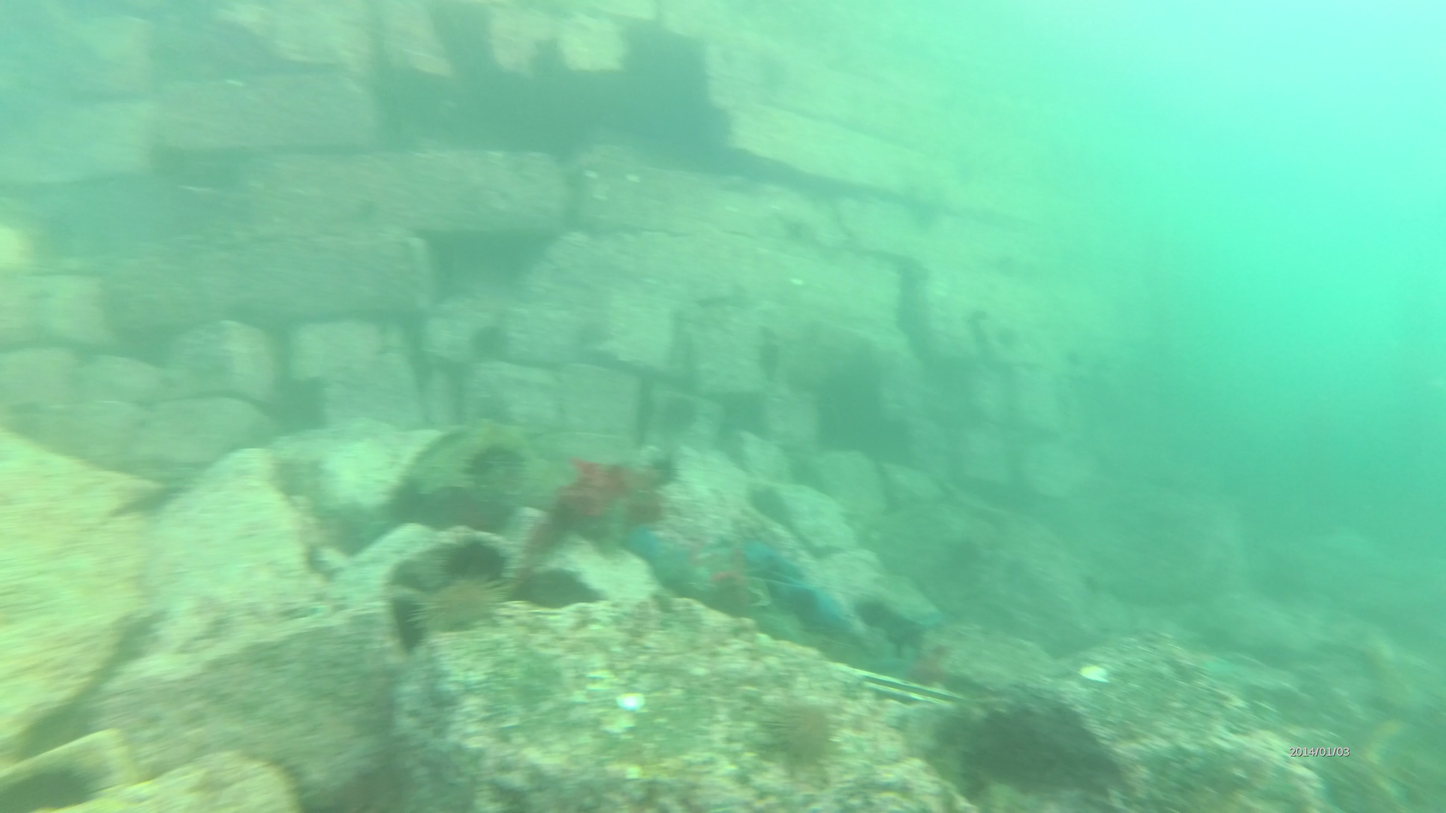starfish: (407, 572, 519, 637), (758, 703, 841, 770), (656, 389, 706, 443), (471, 320, 513, 364), (754, 333, 784, 386), (995, 318, 1022, 352)
